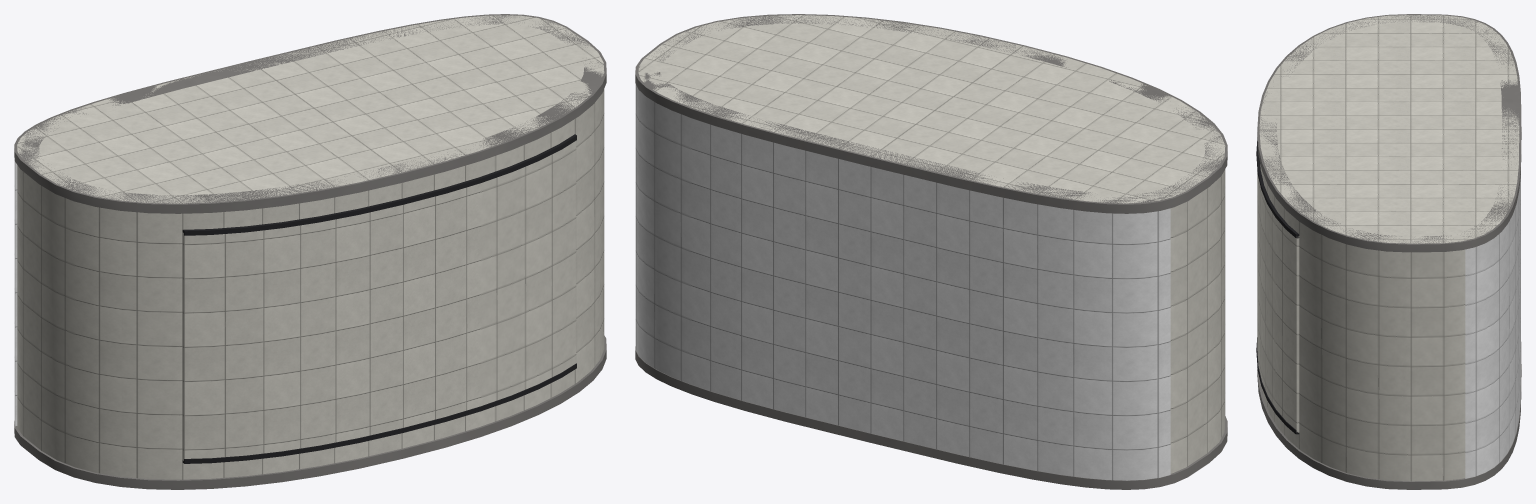
The model's file is aero00_mk2_fuselage_service_125.glb.
The picture shows the model from 3 angles, left to right: view 1: azimuth 30°, elevation 25°; view 2: azimuth 150°, elevation 25°; view 3: azimuth 270°, elevation 25°; orthographic projection. The views are drawn at different scales.
Visible parts, largest first — view 1: fuselage, door, end_frames, door_seams, belly_tiles; view 2: belly_tiles, fuselage, end_frames; view 3: fuselage, belly_tiles, end_frames, door, door_seams.
Boxes of the visible parts, x1=… form: fuselage: x1=17, y1=15, x2=604, y2=479; door: x1=182, y1=141, x2=576, y2=460; end_frames: x1=14, y1=14, x2=606, y2=489; door_seams: x1=182, y1=134, x2=576, y2=463; belly_tiles: x1=14, y1=161, x2=17, y2=426; belly_tiles: x1=635, y1=84, x2=1170, y2=480; fuselage: x1=638, y1=15, x2=1225, y2=473; end_frames: x1=635, y1=14, x2=1227, y2=489; fuselage: x1=1259, y1=15, x2=1519, y2=481; belly_tiles: x1=1465, y1=175, x2=1520, y2=478; end_frames: x1=1257, y1=14, x2=1521, y2=489; door: x1=1257, y1=172, x2=1299, y2=432; door_seams: x1=1256, y1=140, x2=1299, y2=434.
Bounding box in the file's own units: 2.52 × 1.25 × 1.22.
Materials: 4 (3 with a texture image).
